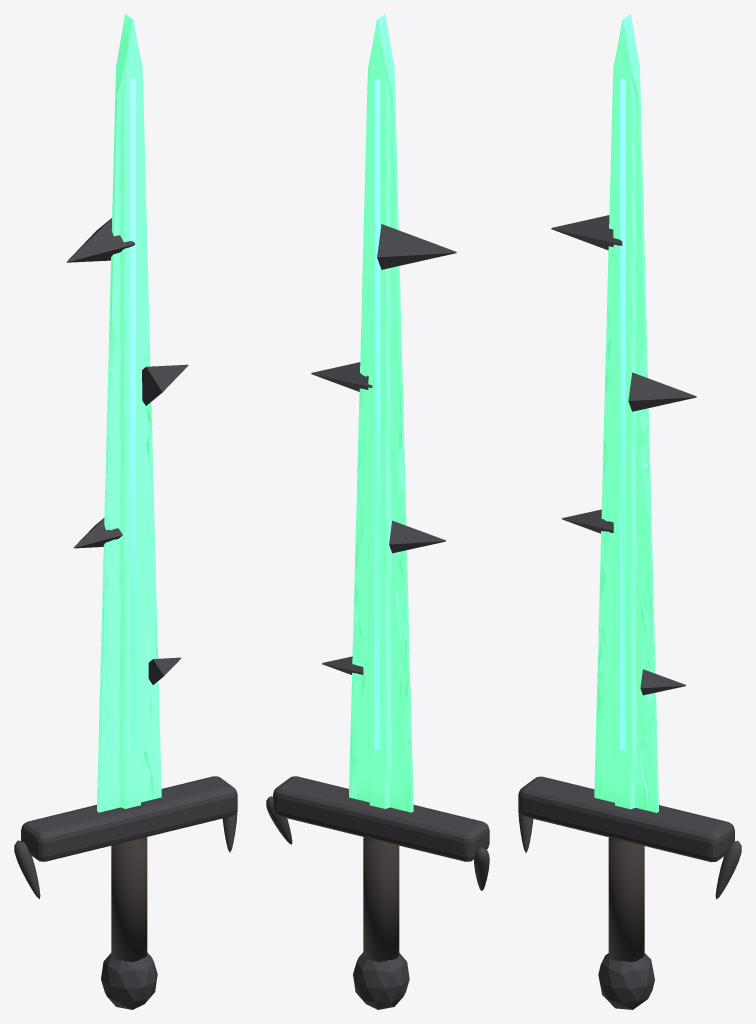
Rendered from cosmic_sword.glb.
The picture shows the model from 3 angles, left to right: view 1: azimuth 30°, elevation 25°; view 2: azimuth 150°, elevation 25°; view 3: azimuth 330°, elevation 25°; orthographic projection.
Visible parts, largest first — view 1: CosmicSword; view 2: CosmicSword; view 3: CosmicSword.
Boxes of the visible parts, left/top/right/bottom form: CosmicSword: left=14, top=14, right=237, bottom=1009; CosmicSword: left=266, top=14, right=489, bottom=1009; CosmicSword: left=518, top=14, right=741, bottom=1009.
Bounding box in the file's own units: 0.3516 × 1.51 × 0.0944.
